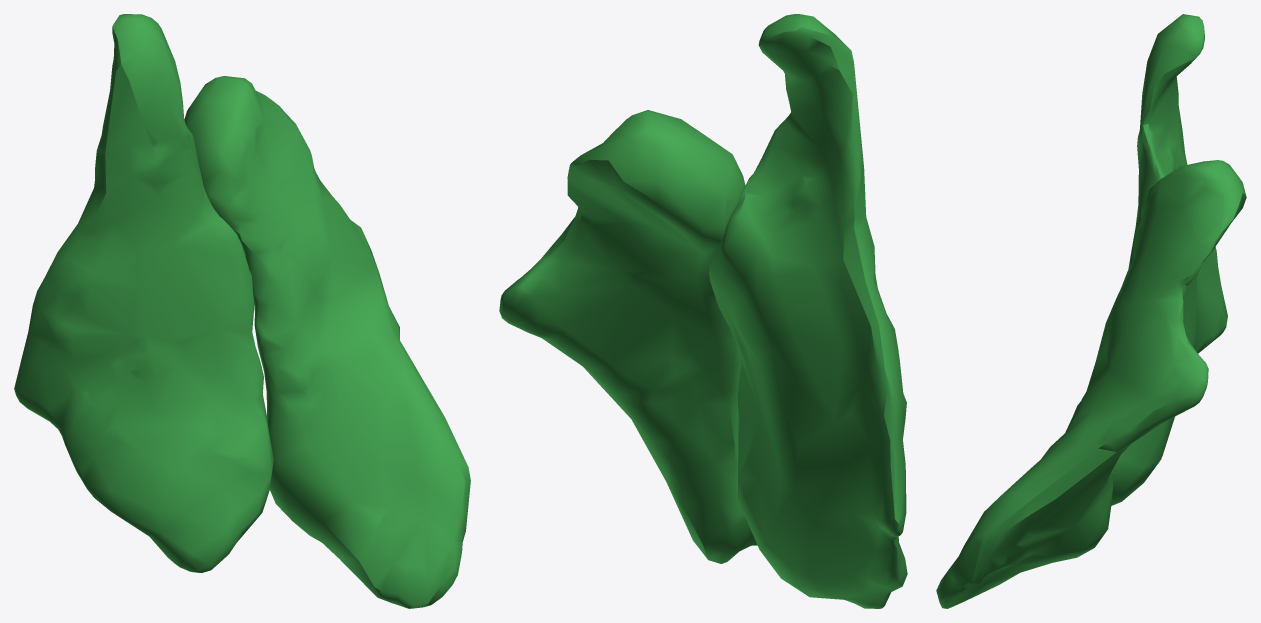
The model's file is lymphatic.thorax.glb.
3 renders of one model, left to right at view 1: azimuth 30°, elevation 25°; view 2: azimuth 150°, elevation 25°; view 3: azimuth 270°, elevation 25°, orthographic. The views are drawn at different scales.
Parts seen in each view (by area): view 1: right_lobe_of_thymus, left_lobe_of_thymus; view 2: right_lobe_of_thymus, left_lobe_of_thymus; view 3: left_lobe_of_thymus, right_lobe_of_thymus.
Part boxes in pixels (x1,y1,x2,y2): right_lobe_of_thymus: [14, 14, 273, 572]; left_lobe_of_thymus: [184, 76, 470, 608]; right_lobe_of_thymus: [709, 14, 907, 608]; left_lobe_of_thymus: [499, 110, 757, 563]; left_lobe_of_thymus: [936, 160, 1246, 608]; right_lobe_of_thymus: [1111, 14, 1227, 505].
Size of the model in its own units: 0.0466 by 0.0722 by 0.0395.
